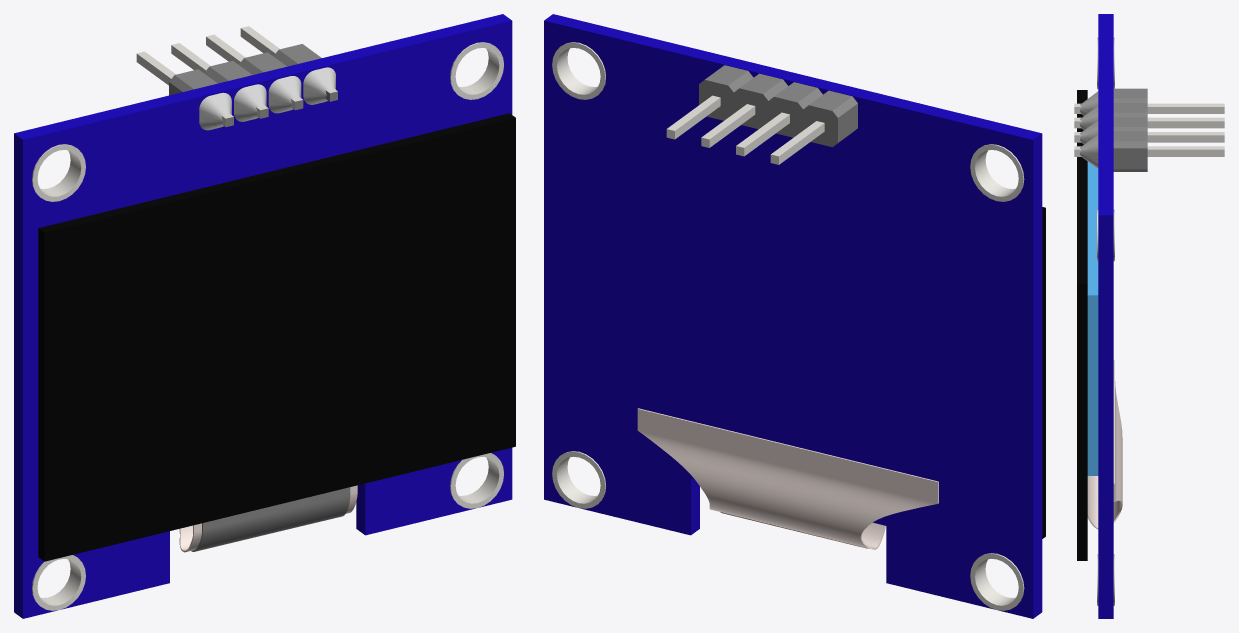
File: screen.glb
3 views of the same model, side by side, from view 1: azimuth 30°, elevation 25°; view 2: azimuth 150°, elevation 25°; view 3: azimuth 270°, elevation 25° (orthographic). The views are drawn at different scales.
Parts seen in each view (by area): view 1: Display 1.3 OLED (Mauro) v5; view 2: Display 1.3 OLED (Mauro) v5; view 3: Display 1.3 OLED (Mauro) v5.
Boxes of the visible parts, x1,y1,x2,y2 form: Display 1.3 OLED (Mauro) v5: [14, 14, 515, 618]; Display 1.3 OLED (Mauro) v5: [544, 14, 1045, 618]; Display 1.3 OLED (Mauro) v5: [1074, 14, 1224, 618].
Size of the model in its own units: 0.0358 by 0.0335 by 0.0113.
